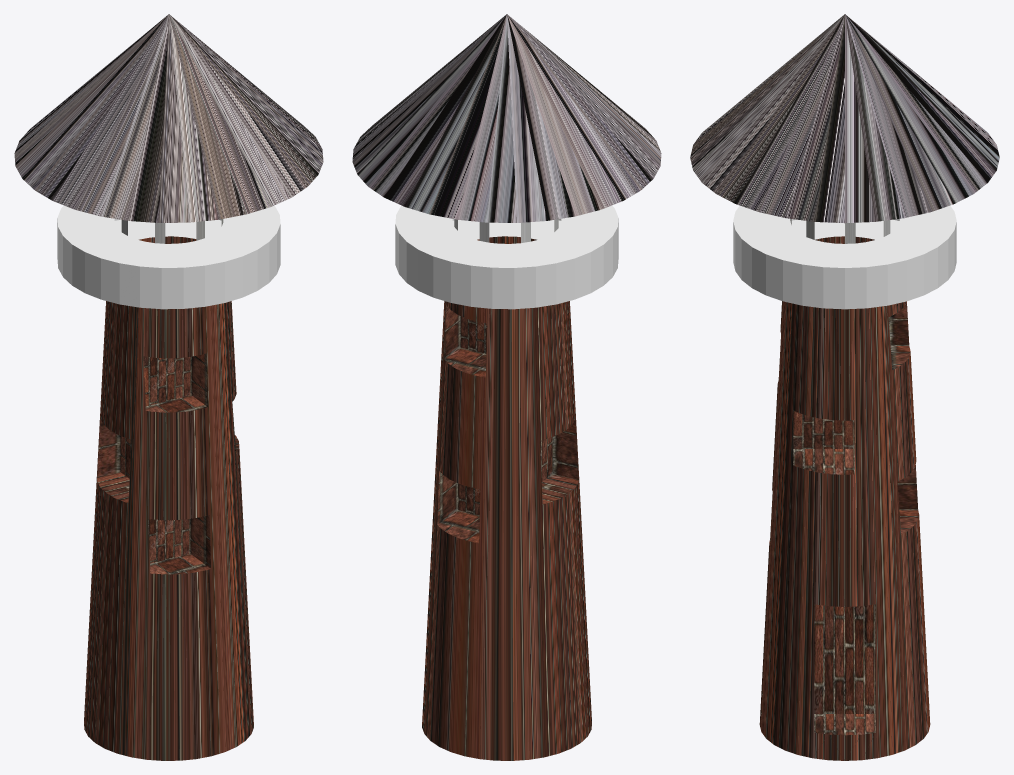
File: latarnia.glb
3 renders of one model, left to right at view 1: azimuth 30°, elevation 25°; view 2: azimuth 150°, elevation 25°; view 3: azimuth 270°, elevation 25°, orthographic.
Parts seen in each view (by area): view 1: Latarnia; view 2: Latarnia; view 3: Latarnia.
Part boxes in pixels (x1,y1,x2,y2): Latarnia: [14, 14, 323, 760]; Latarnia: [352, 14, 661, 760]; Latarnia: [690, 14, 999, 760].
Bounding box in the file's own units: 3.63 × 9.2 × 3.63.
Materials: 4 (3 with a texture image).
